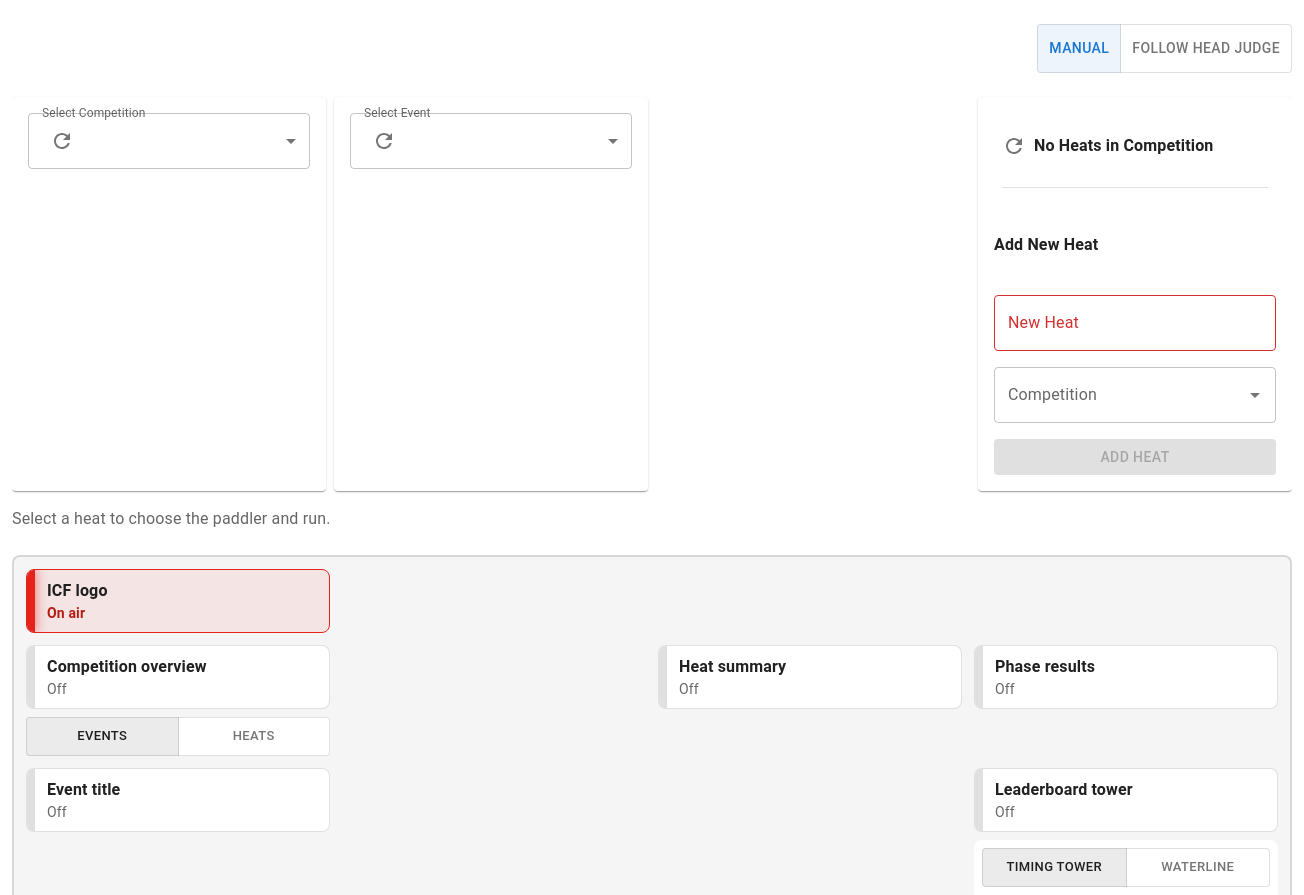
Test: OverlayController › Follow head judge mode › switching back to Manual re-enables every picker and turns following off
The width and height of the screenshot is (1304, 895).
Click the button "Follow head judge": coordinates (1206, 48) top-left (1120, 24), bottom-right (1292, 72)
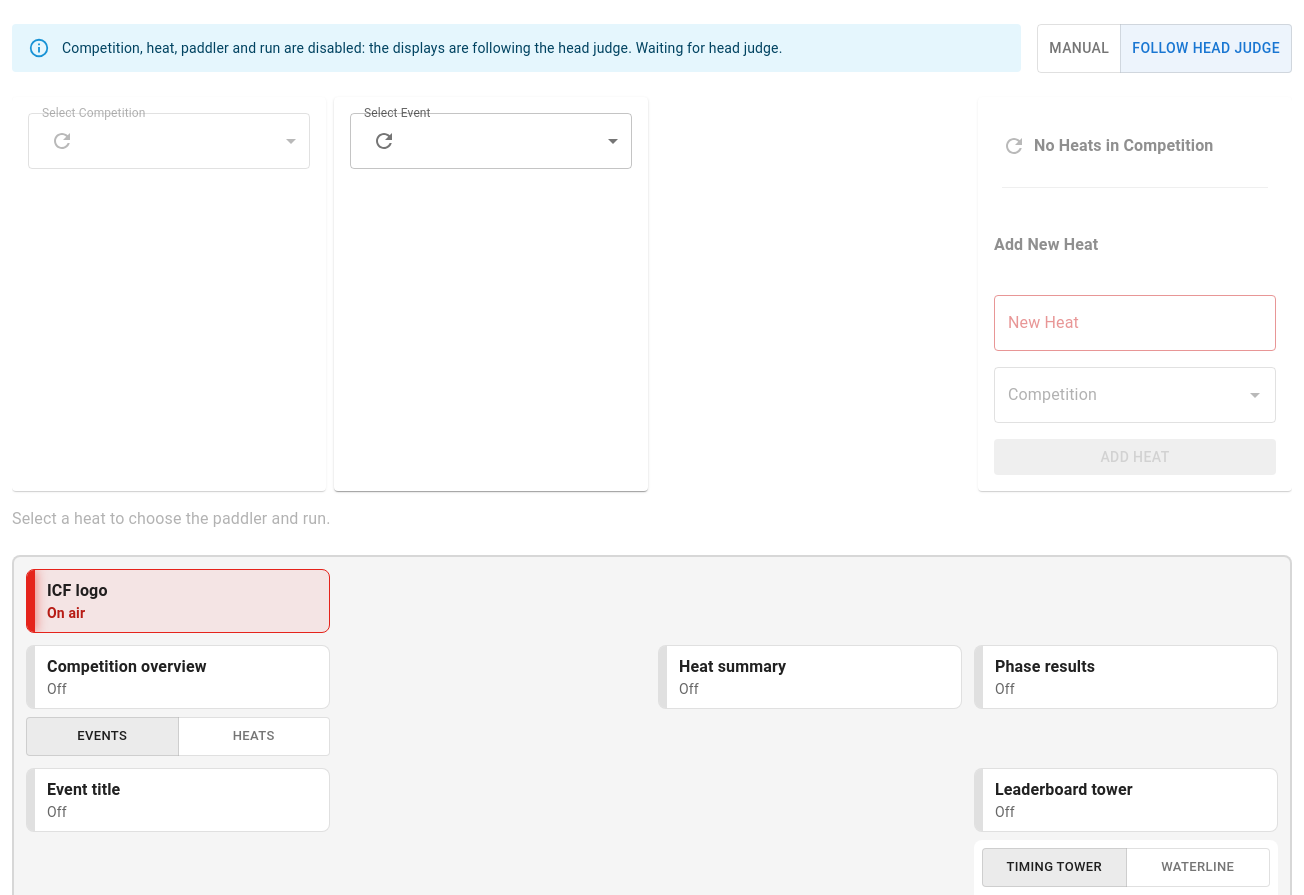
Click the button "Manual": coordinates (1079, 48) top-left (1037, 24), bottom-right (1121, 72)
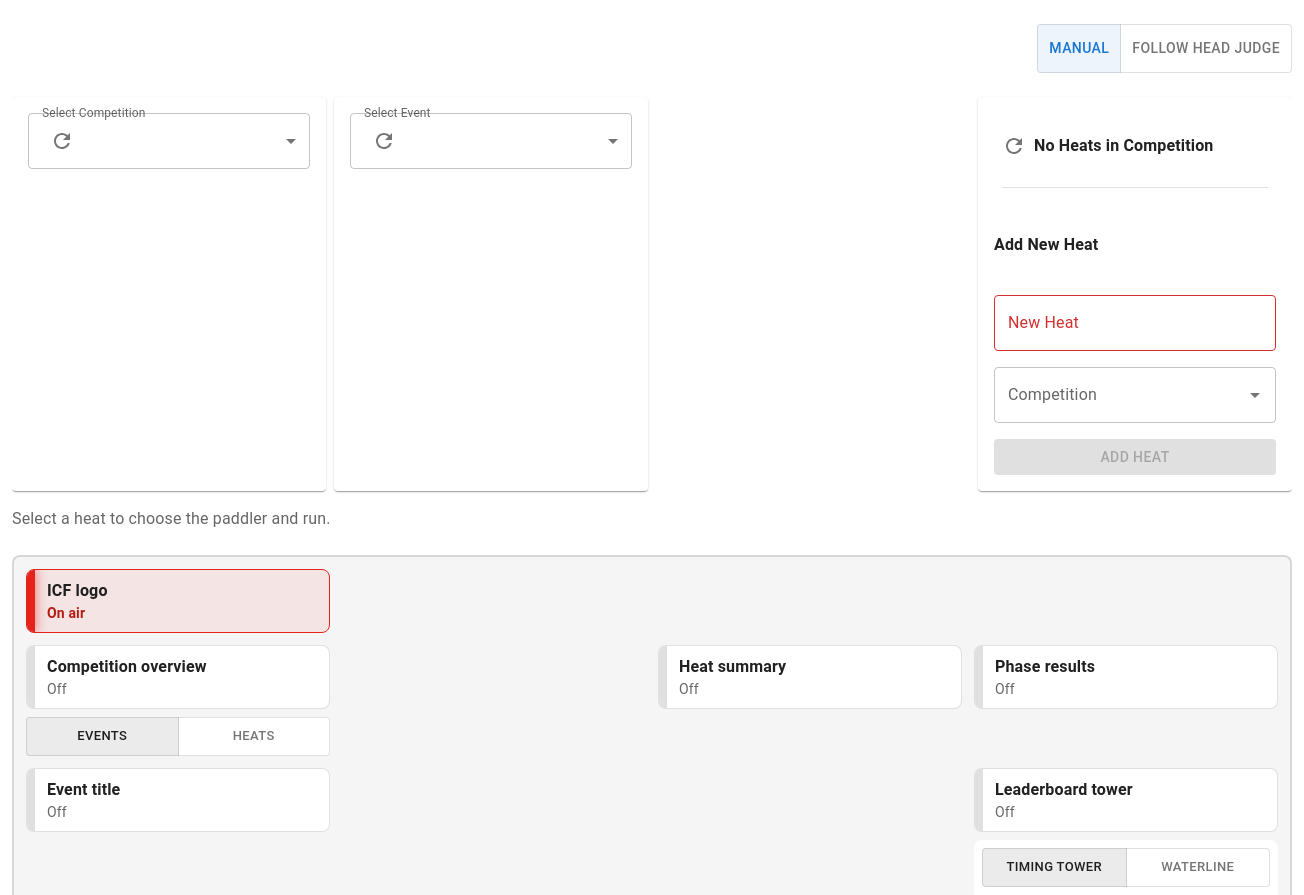
Expected: the text "Select Competition" is shown, top-left (42, 104), bottom-right (145, 121)
Expected: the message "Competition, heat, paddler and run are disabled: the displays are following the" is gone
